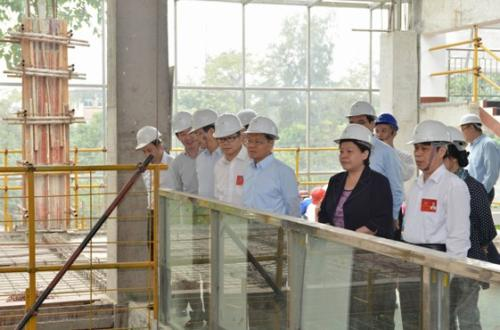hard-hat: (406, 119, 452, 145), (333, 123, 374, 148), (243, 116, 279, 140), (213, 112, 245, 138), (188, 108, 218, 134), (134, 126, 162, 150), (345, 100, 377, 118), (446, 125, 467, 151), (172, 110, 192, 134), (374, 113, 398, 130), (236, 109, 257, 127), (458, 112, 482, 125)
person: (317, 123, 395, 330), (396, 119, 472, 330), (240, 115, 302, 328), (441, 125, 498, 330), (345, 100, 404, 230), (457, 112, 500, 264), (240, 115, 302, 216), (457, 112, 500, 205), (135, 125, 178, 209), (374, 113, 416, 182), (170, 110, 203, 194)
